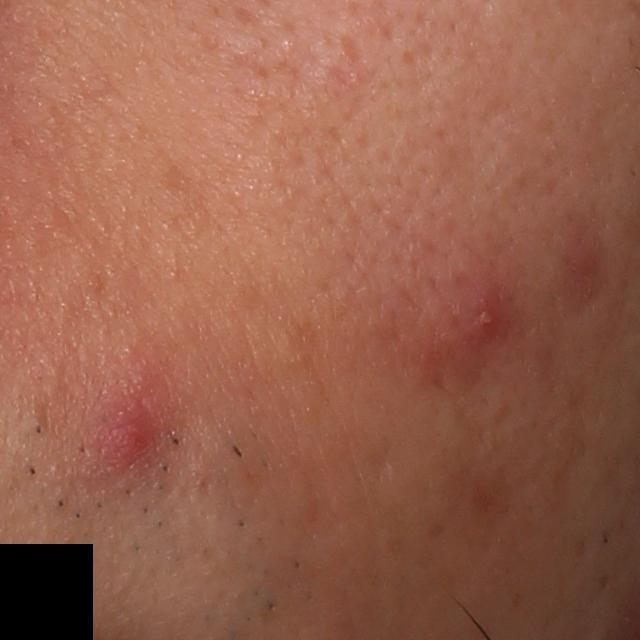atrophic_scar: (335, 32, 365, 62)
papule: (87, 385, 161, 478)
